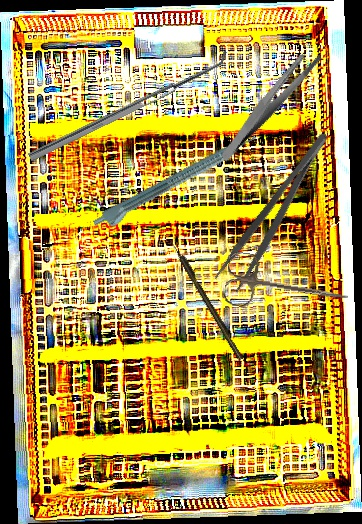Dressing Forceps: (210, 128, 346, 296), (199, 45, 340, 163)
Handpiece: (90, 131, 263, 236)
Hook Surgical: (168, 238, 245, 362)
Iris Scissors: (222, 250, 353, 322)
Spatula Surgical: (23, 47, 233, 162)
